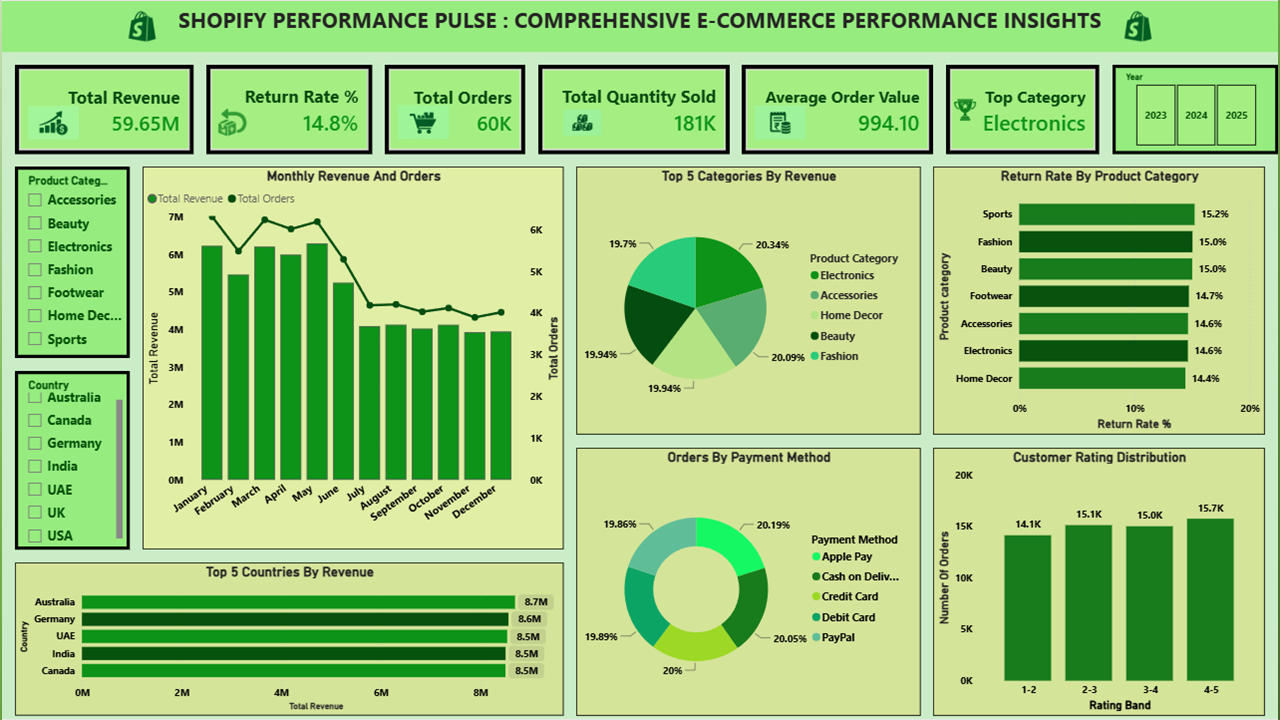

Layout of this report page (visuals, bound fields, positions):
{"tool":"powerbi","page":{"name":"FAIR DASHBOARD","canvas":[1611,896],"ordinal":2},"visuals":[{"type":"textbox","box":[0,0,1536,64],"z":0},{"type":"clusteredBarChart","title":"Top 5 Countries By Revenue","fields":{"Category":["SHOPIFY DATA SET.customer_country"],"Y":["SHOPIFY DATA SET.Total Revenue"]},"box":[16,688,704,208],"z":1000},{"type":"slicer","fields":{"Values":["SHOPIFY DATA SET.order_date"]},"box":[1184,80,224,96],"z":2000},{"type":"cardVisual","fields":{"Data":["SHOPIFY DATA SET.Total Revenue"]},"box":[32,80,208,112],"z":3000},{"type":"cardVisual","fields":{"Data":["SHOPIFY DATA SET.Total Profit"]},"box":[256,80,192,112],"z":4000},{"type":"cardVisual","fields":{"Data":["SHOPIFY DATA SET.Total Orders"]},"box":[480,80,192,112],"z":5000},{"type":"cardVisual","fields":{"Data":["SHOPIFY DATA SET.Total Quantity Sold"]},"box":[704,80,224,112],"z":6000},{"type":"cardVisual","fields":{"Data":["SHOPIFY DATA SET.Average Order Value"]},"box":[944,80,224,112],"z":7000},{"type":"image","box":[512,0,80,64],"z":8000},{"type":"pieChart","title":"Revenue Contribution By Product Category","fields":{"Category":["SHOPIFY DATA SET.product_category"],"Y":["SHOPIFY DATA SET.Total Revenue"]},"box":[768,240,400,304],"z":9000},{"type":"lineStackedColumnComboChart","title":"Monthly Revenue And Orders","fields":{"Category":["SHOPIFY DATA SET.order_date.Variation.Date Hierarchy.Month"],"Y":["SHOPIFY DATA SET.Total Revenue"],"Y2":["SHOPIFY DATA SET.Total Orders"]},"box":[192,224,544,448],"z":10000},{"type":"donutChart","title":"Orders By Payment Method","fields":{"Category":["SHOPIFY DATA SET.payment_method"],"Y":["SHOPIFY DATA SET.Total Orders"]},"box":[752,576,368,304],"z":11000},{"type":"barChart","title":"Return Rate By Product Category","fields":{"Category":["SHOPIFY DATA SET.product_category"],"Y":["SHOPIFY DATA SET.Return Rate %"]},"box":[1184,240,400,288],"z":12000},{"type":"columnChart","title":"Customer Rating Distribution","fields":{"Category":["SHOPIFY DATA SET.Rating Band"],"Y":["CountNonNull(SHOPIFY DATA SET.product_id)"]},"box":[1136,576,448,304],"z":13000},{"type":"slicer","fields":{"Values":["SHOPIFY DATA SET.product_category"]},"box":[16,240,144,208],"z":14000},{"type":"slicer","fields":{"Values":["SHOPIFY DATA SET.customer_country"]},"box":[16,480,144,192],"z":15000},{"type":"shape","box":[16,240,144,208],"z":16000},{"type":"shape","box":[1184,80,224,96],"z":17000},{"type":"shape","box":[16,480,144,192],"z":18000}]}

Visuals, with their boxes in screenshot pixels (x1, y1, x2, y2), scaled from the page's 1611x896 canvas onto the 1280x720 screenshot:
textbox: {"left": 0, "top": 0, "right": 1220, "bottom": 51}
"Top 5 Countries By Revenue" clusteredBarChart: {"left": 13, "top": 553, "right": 572, "bottom": 719}
slicer - SHOPIFY DATA SET.order_date: {"left": 941, "top": 64, "right": 1119, "bottom": 141}
cardVisual - SHOPIFY DATA SET.Total Revenue: {"left": 25, "top": 64, "right": 191, "bottom": 154}
cardVisual - SHOPIFY DATA SET.Total Profit: {"left": 203, "top": 64, "right": 356, "bottom": 154}
cardVisual - SHOPIFY DATA SET.Total Orders: {"left": 381, "top": 64, "right": 534, "bottom": 154}
cardVisual - SHOPIFY DATA SET.Total Quantity Sold: {"left": 559, "top": 64, "right": 737, "bottom": 154}
cardVisual - SHOPIFY DATA SET.Average Order Value: {"left": 750, "top": 64, "right": 928, "bottom": 154}
image: {"left": 407, "top": 0, "right": 470, "bottom": 51}
"Revenue Contribution By Product Category" pieChart: {"left": 610, "top": 193, "right": 928, "bottom": 437}
"Monthly Revenue And Orders" lineStackedColumnComboChart: {"left": 153, "top": 180, "right": 585, "bottom": 540}
"Orders By Payment Method" donutChart: {"left": 597, "top": 463, "right": 890, "bottom": 707}
"Return Rate By Product Category" barChart: {"left": 941, "top": 193, "right": 1259, "bottom": 424}
"Customer Rating Distribution" columnChart: {"left": 903, "top": 463, "right": 1259, "bottom": 707}
slicer - SHOPIFY DATA SET.product_category: {"left": 13, "top": 193, "right": 127, "bottom": 360}
slicer - SHOPIFY DATA SET.customer_country: {"left": 13, "top": 386, "right": 127, "bottom": 540}
shape: {"left": 13, "top": 193, "right": 127, "bottom": 360}
shape: {"left": 941, "top": 64, "right": 1119, "bottom": 141}
shape: {"left": 13, "top": 386, "right": 127, "bottom": 540}
